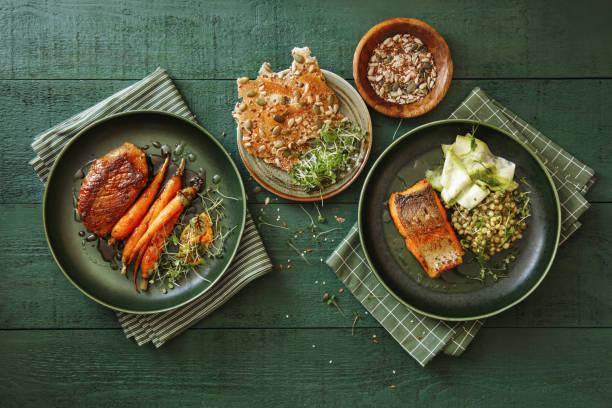Braised Crucian Carp: (42, 111, 244, 314), (365, 122, 558, 314), (236, 69, 369, 197), (351, 17, 452, 119)
